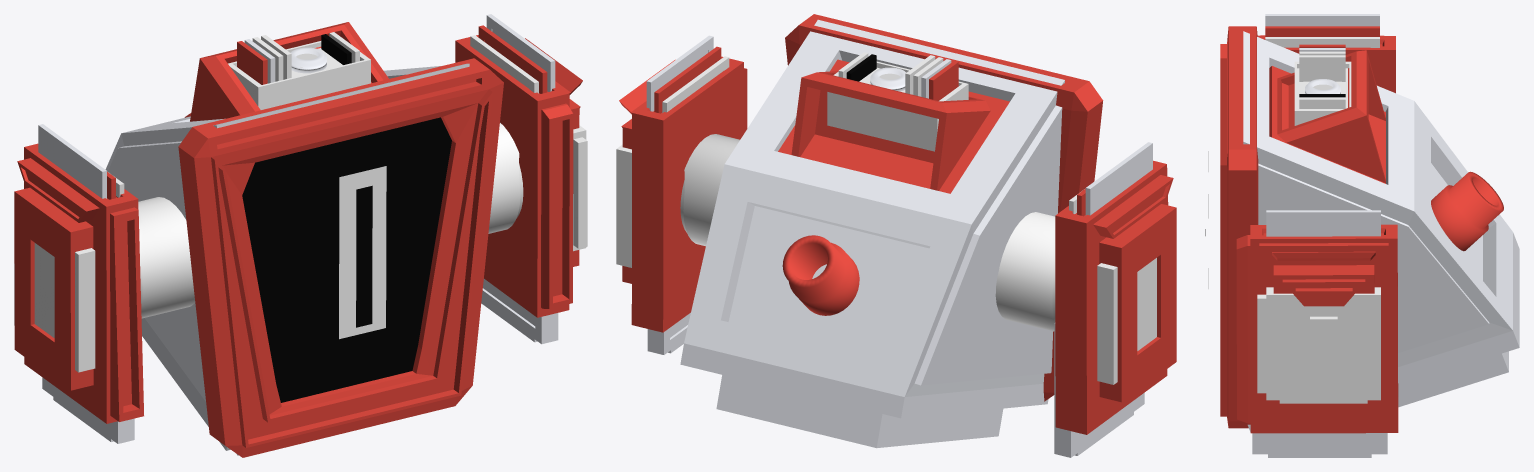
3 views of the same model, side by side, from view 1: azimuth 30°, elevation 25°; view 2: azimuth 150°, elevation 25°; view 3: azimuth 270°, elevation 25° (orthographic). The views are drawn at different scales.
Visible parts, largest first — view 1: Cube, Plane, Cube.003, Cube.002, Cube.001, Cylinder, Plane.004, Cube.007, Cube.012, Cube.022, Plane.005, Cube.015 (+8 smaller); view 2: Cube.001, Cube.003, Cube.002, Cylinder, Cube, Cube.007, Cube.004, Cylinder.001, Cube.022, Cube.012, Cube.015, Cube.008 (+7 smaller); view 3: Cube.001, Cube.002, Cube.008, Cube, Cube.007, Cylinder.001, Cube.005, Cube.011, Cube.004, Cube.015, Cube.003, Cube.014 (+5 smaller).
Boxes of the visible parts, x1,y1,x2,y2 form: Cube: (178, 58, 503, 457); Plane: (242, 117, 451, 402); Cube.003: (14, 143, 143, 423); Cube.002: (455, 35, 582, 317); Cube.001: (105, 63, 469, 455); Cylinder: (138, 123, 523, 318); Plane.004: (339, 166, 386, 339); Cube.007: (190, 22, 388, 121); Cube.012: (14, 243, 95, 372); Cube.022: (228, 41, 370, 109); Plane.005: (356, 185, 372, 327); Cube.015: (38, 124, 106, 198); Cube.001: (680, 19, 1064, 448); Cube.003: (1055, 160, 1176, 434); Cube.002: (619, 56, 747, 332); Cylinder: (680, 134, 1055, 331); Cube: (785, 14, 1103, 401); Cube.007: (791, 71, 990, 190); Cube.004: (778, 59, 1009, 193); Cylinder.001: (782, 235, 859, 315); Cube.022: (827, 61, 968, 151); Cube.012: (1097, 258, 1156, 384); Cube.015: (1085, 142, 1152, 215); Cube.008: (616, 144, 631, 267); Cube.001: (1243, 31, 1519, 432); Cube.002: (1236, 224, 1398, 433); Cube.008: (1257, 287, 1380, 403); Cube: (1220, 26, 1258, 428); Cube.007: (1277, 50, 1385, 182); Cylinder.001: (1431, 171, 1503, 251); Cube.005: (1252, 433, 1387, 457); Cube.011: (1266, 210, 1380, 236); Cube.004: (1269, 66, 1385, 183); Cube.015: (1265, 14, 1379, 26); Cube.003: (1257, 35, 1395, 93); Cube.014: (1265, 26, 1379, 36).
Bounding box in the file's own units: 3.37 × 2.34 × 1.96.
